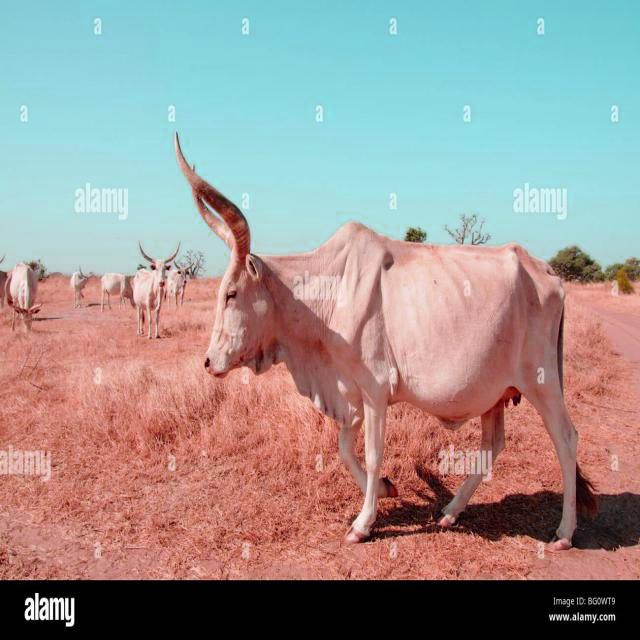cow: (177, 135, 594, 548)
